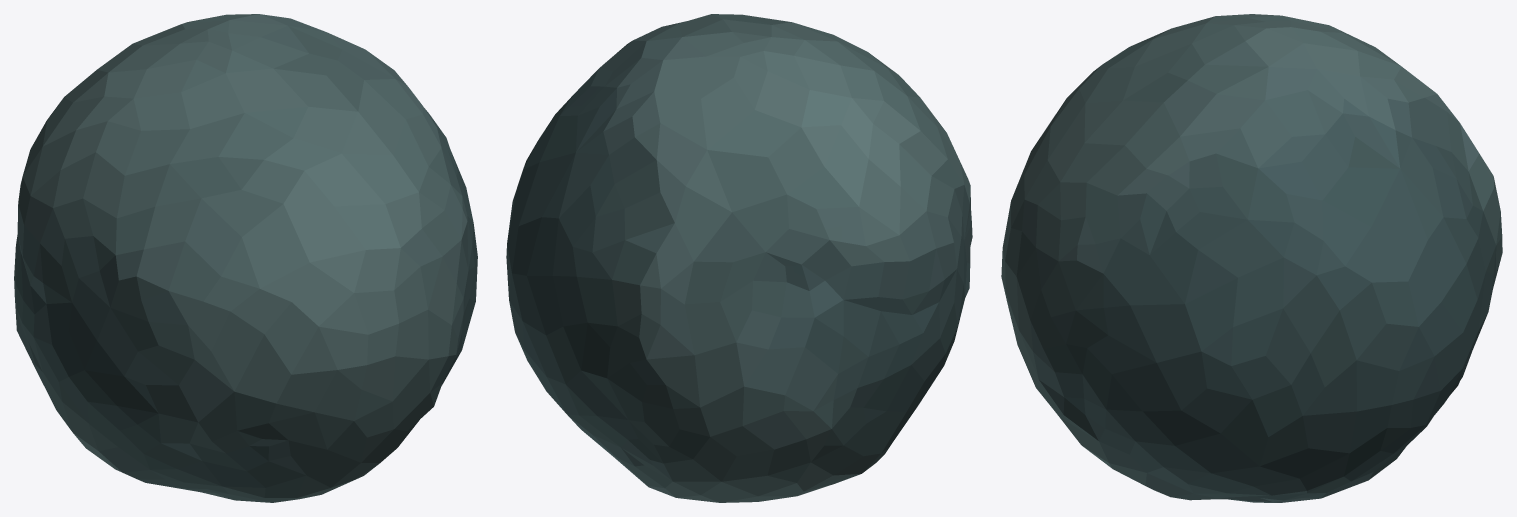
The model's file is zeometry-organic-forms-lumpy-sphere_v3.fbx.
3 renders of one model, left to right at view 1: azimuth 30°, elevation 25°; view 2: azimuth 150°, elevation 25°; view 3: azimuth 270°, elevation 25°, orthographic. The views are drawn at different scales.
Parts seen in each view (by area): view 1: Lumpy Sphere_v3; view 2: Lumpy Sphere_v3; view 3: Lumpy Sphere_v3.
Part boxes in pixels (x1,y1,x2,y2): Lumpy Sphere_v3: (14,14,477,502); Lumpy Sphere_v3: (506,14,972,502); Lumpy Sphere_v3: (1001,14,1502,502).
Size of the model in its own units: 0.476 by 0.5 by 0.4951.
